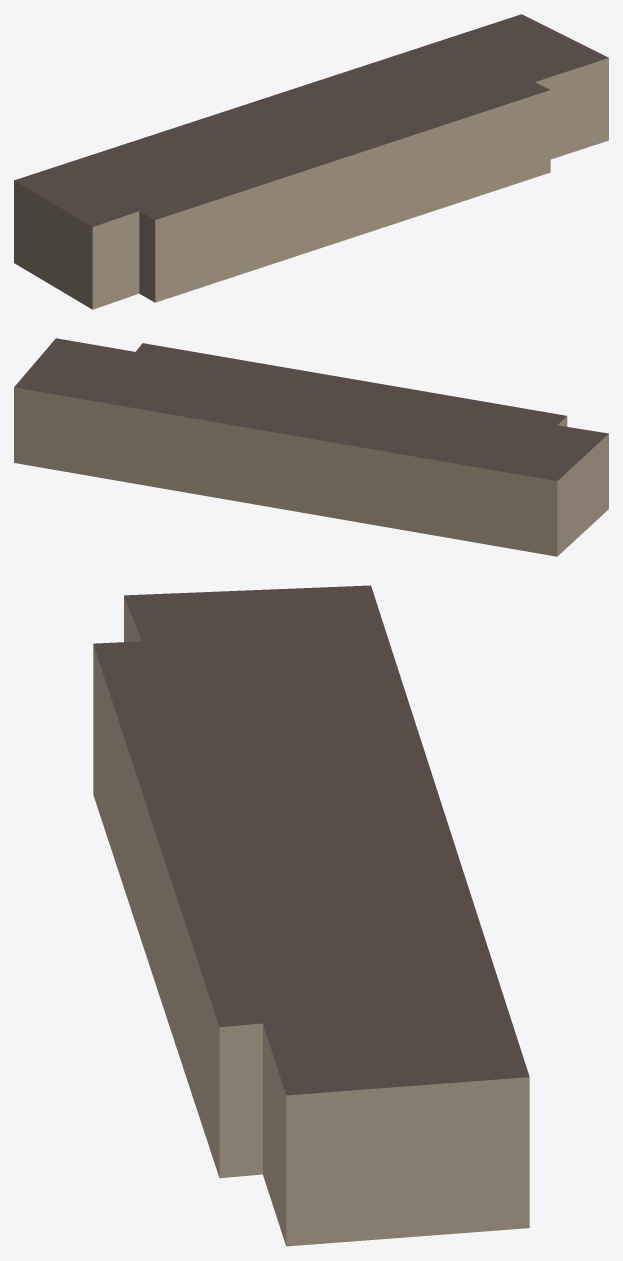
3 views of the same model, one above another, from view 1: azimuth 30°, elevation 25°; view 2: azimuth 150°, elevation 25°; view 3: azimuth 270°, elevation 25° (orthographic). The views are drawn at different scales.
Parts seen in each view (by area): view 1: HP-w1122519254; view 2: HP-w1122519254; view 3: HP-w1122519254.
Part boxes in pixels (box(x1,y1,x2,y2)): HP-w1122519254: box(14, 14, 608, 309); HP-w1122519254: box(14, 338, 608, 556); HP-w1122519254: box(93, 585, 529, 1246).
Size of the model in its own units: 65.17 by 9 by 23.57.
